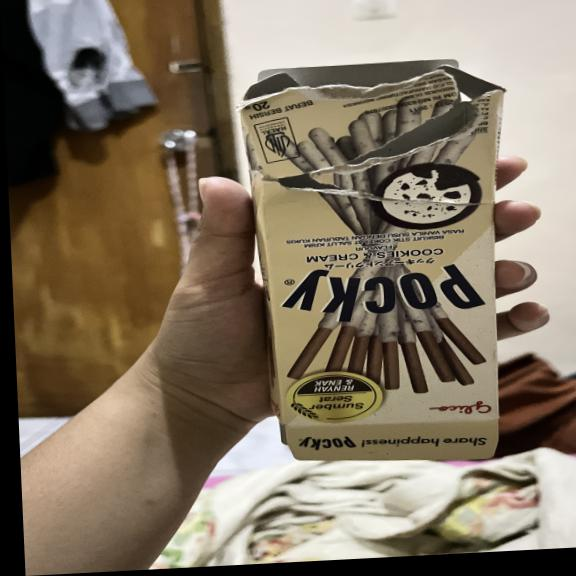Kertas: (241, 91, 506, 425)
